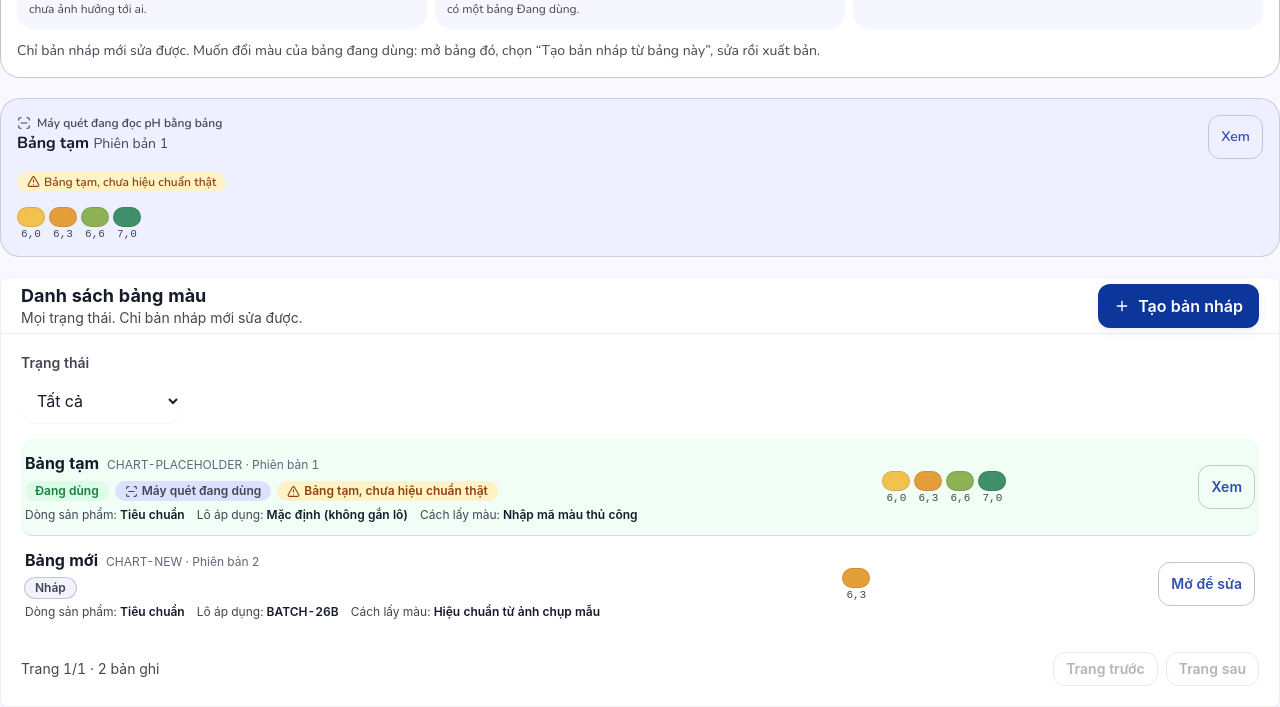
Scenario: AdminPhColorChartPage › bản nháp sửa được, lý do chỉ hỏi khi lưu và chặn xuất bản khi thiếu mức
This screenshot has width=1280, height=707.
(page scrolled)
Click the button "Mở để sửa" at (1207, 584), box top-left (1158, 562), bottom-right (1255, 606)
(page scrolled)
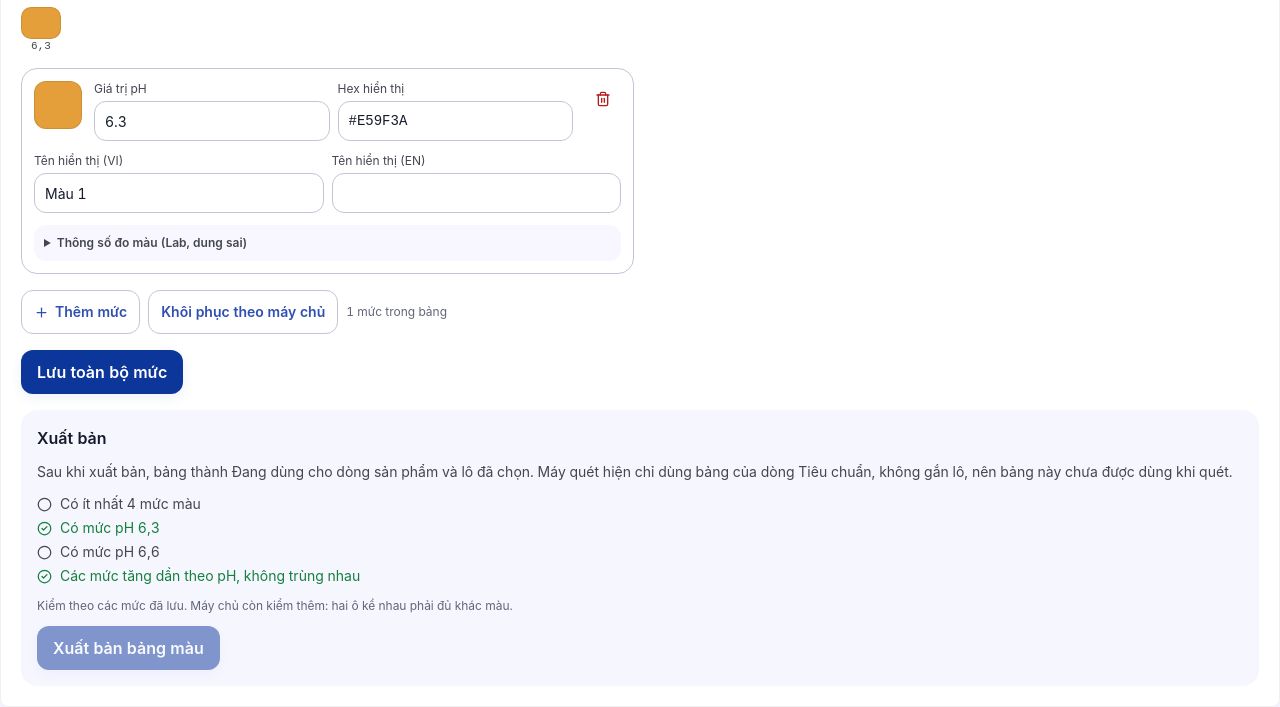
Now the button "Xuất bản bảng màu" is disabled, box top-left (37, 626), bottom-right (220, 670)
Now the button "Lưu toàn bộ mức" is shown
Click the button "Lưu toàn bộ mức" at (102, 372), box top-left (21, 350), bottom-right (183, 394)
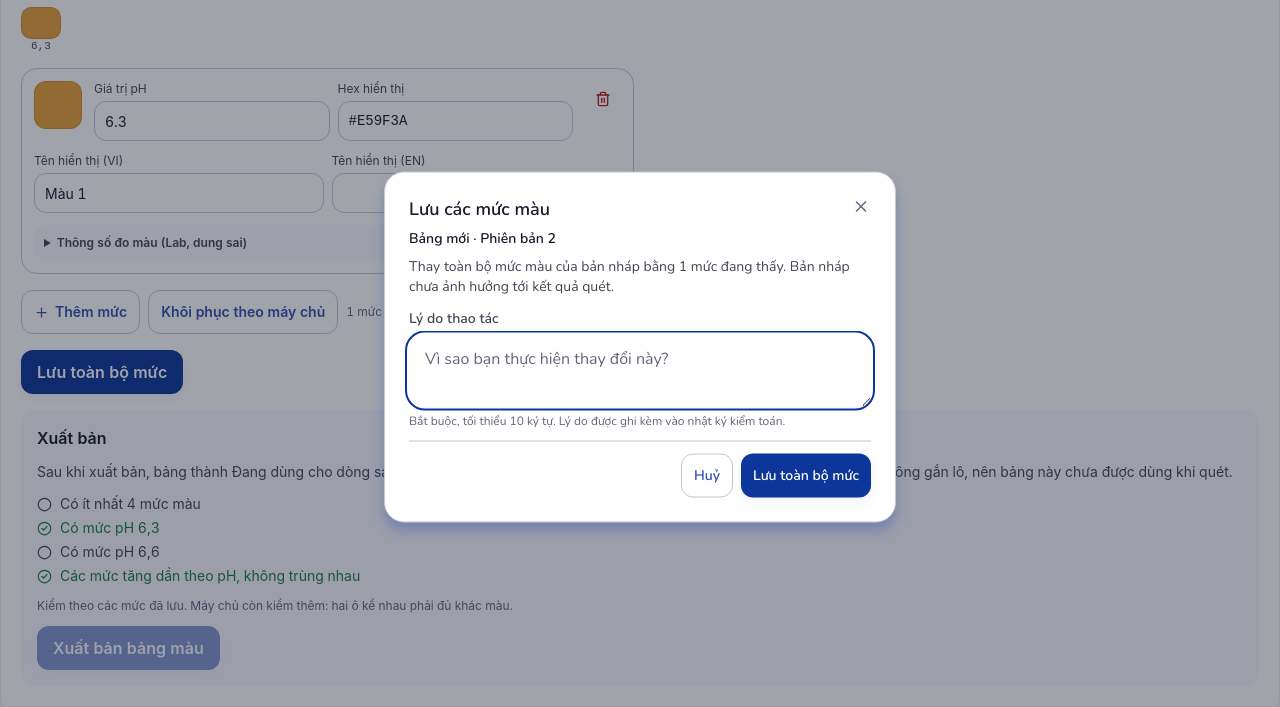
Now the text box labelled "Lý do thao tác" is shown, box top-left (409, 334), bottom-right (871, 406)
